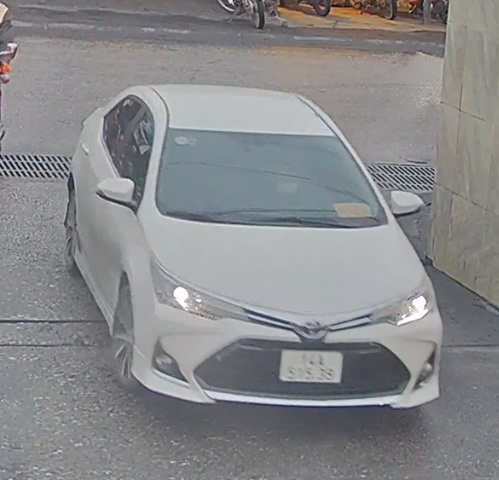vehicle plate: (272, 343, 352, 388)
